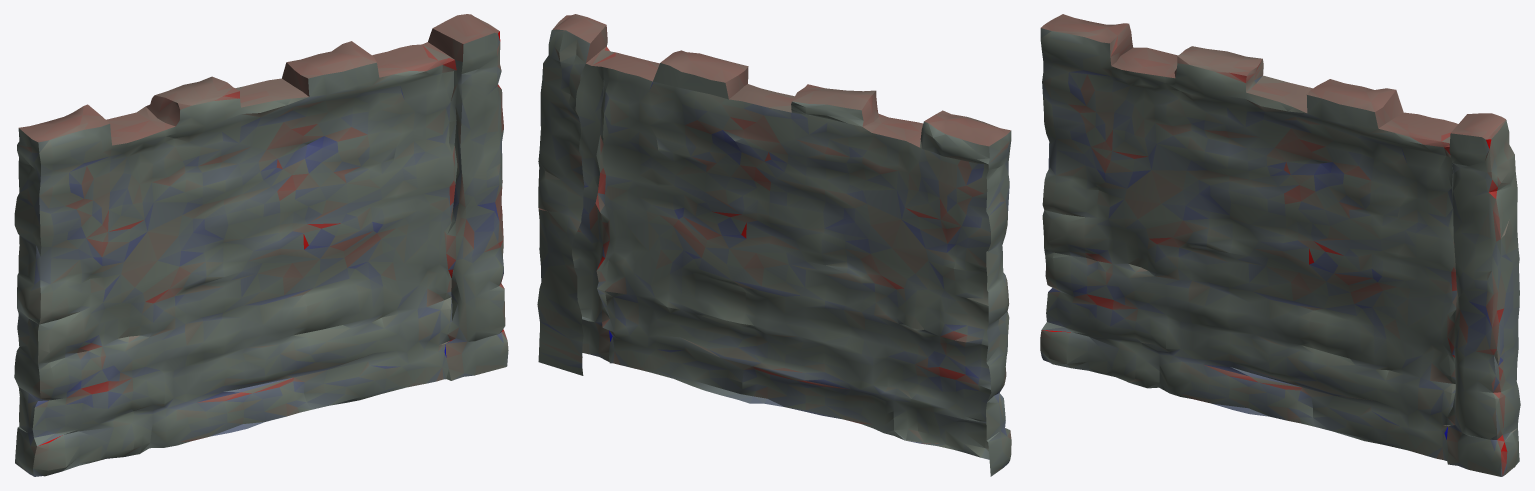
File: Wall_Left.fbx
3 views of the same model, side by side, from view 1: azimuth 30°, elevation 25°; view 2: azimuth 150°, elevation 25°; view 3: azimuth 330°, elevation 25° (orthographic).
Visible parts, largest first — view 1: Wall_Left (2); view 2: Wall_Left (2); view 3: Wall_Left (2).
Boxes of the visible parts, x1,y1,x2,y2 form: Wall_Left (2): (14,14,508,476); Wall_Left (2): (537,14,1011,476); Wall_Left (2): (1040,14,1520,476).
Size of the model in its own units: 813 by 570 by 102.
